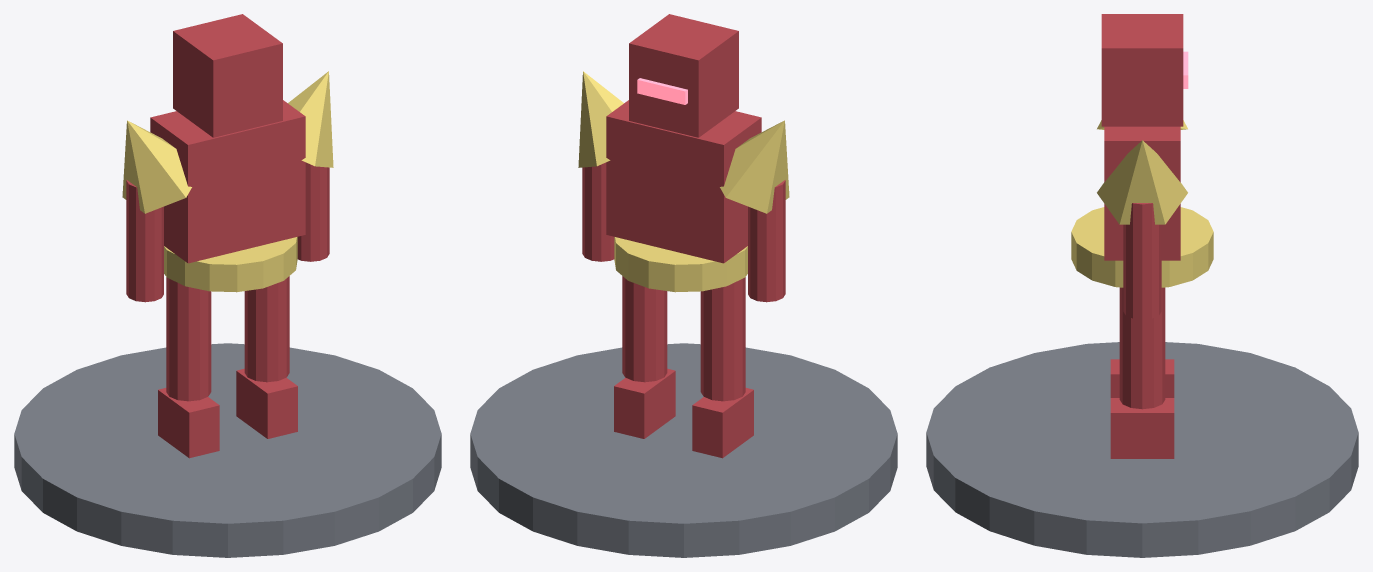
Rendered from armor_set_dragon.glb.
3 views of the same model, side by side, from view 1: azimuth 30°, elevation 25°; view 2: azimuth 150°, elevation 25°; view 3: azimuth 270°, elevation 25° (orthographic).
Visible parts, largest first — view 1: Cylinder, Cube.002, Cube.003, Cylinder.001, Cylinder.003, Cylinder.002, Cone, Cylinder.004, Cube, Cube.001, Cylinder.005, Cone.001; view 2: Cylinder, Cube.002, Cube.003, Cylinder.001, Cylinder.003, Cylinder.002, Cone, Cylinder.004, Cube, Cube.001, Cylinder.005, Cone.001 (+1 smaller); view 3: Cylinder, Cube.003, Cylinder.003, Cylinder.002, Cube.002, Cone.001, Cylinder.005, Cube.001, Cube.
Part boxes in pixels (bbox=[...]): Cylinder: bbox=[14, 343, 441, 557]; Cube.002: bbox=[150, 100, 305, 263]; Cube.003: bbox=[173, 14, 282, 137]; Cylinder.001: bbox=[166, 277, 211, 401]; Cylinder.003: bbox=[164, 237, 297, 292]; Cylinder.002: bbox=[244, 276, 289, 382]; Cone: bbox=[122, 120, 191, 213]; Cylinder.004: bbox=[126, 180, 163, 302]; Cube: bbox=[158, 388, 219, 458]; Cube.001: bbox=[236, 368, 297, 438]; Cylinder.005: bbox=[297, 162, 329, 261]; Cone.001: bbox=[288, 71, 333, 167]; Cylinder: bbox=[470, 343, 897, 557]; Cube.002: bbox=[606, 100, 761, 263]; Cube.003: bbox=[629, 14, 738, 137]; Cylinder.001: bbox=[700, 277, 745, 401]; Cylinder.003: bbox=[614, 237, 747, 292]; Cylinder.002: bbox=[622, 276, 667, 382]; Cone: bbox=[720, 120, 789, 213]; Cylinder.004: bbox=[748, 180, 785, 302]; Cube: bbox=[692, 388, 753, 458]; Cube.001: bbox=[614, 368, 675, 438]; Cylinder.005: bbox=[582, 162, 614, 261]; Cone.001: bbox=[578, 71, 623, 167]; Cylinder: bbox=[926, 342, 1358, 557]; Cube.003: bbox=[1101, 14, 1183, 126]; Cylinder.003: bbox=[1071, 207, 1213, 287]; Cylinder.002: bbox=[1119, 287, 1165, 409]; Cube.002: bbox=[1104, 126, 1180, 260]; Cone.001: bbox=[1097, 140, 1187, 224]; Cylinder.005: bbox=[1123, 203, 1161, 319]; Cube.001: bbox=[1110, 398, 1174, 458]; Cube: bbox=[1110, 359, 1174, 397].
Size of the model in its own units: 1.7 by 1.89 by 1.7.
